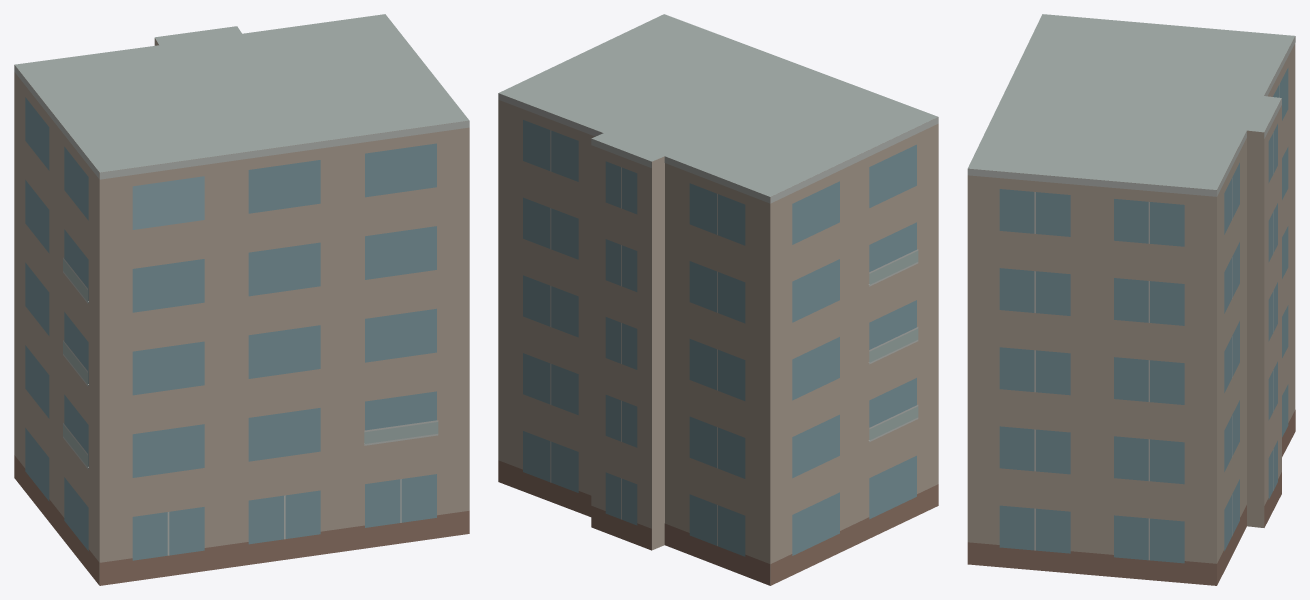
Rendered from survey-upis-33040073.glb.
3 views of the same model, side by side, from view 1: azimuth 30°, elevation 25°; view 2: azimuth 150°, elevation 25°; view 3: azimuth 270°, elevation 25° (orthographic). The views are drawn at different scales.
Visible parts, largest first — view 1: survey-upis-33040073.tmp; view 2: survey-upis-33040073.tmp; view 3: survey-upis-33040073.tmp.
Part boxes in pixels (bbox=[...]): survey-upis-33040073.tmp: bbox=[14, 14, 469, 585]; survey-upis-33040073.tmp: bbox=[498, 14, 938, 585]; survey-upis-33040073.tmp: bbox=[967, 14, 1295, 585].
Size of the model in its own units: 13.66 by 14.3 by 10.74.
